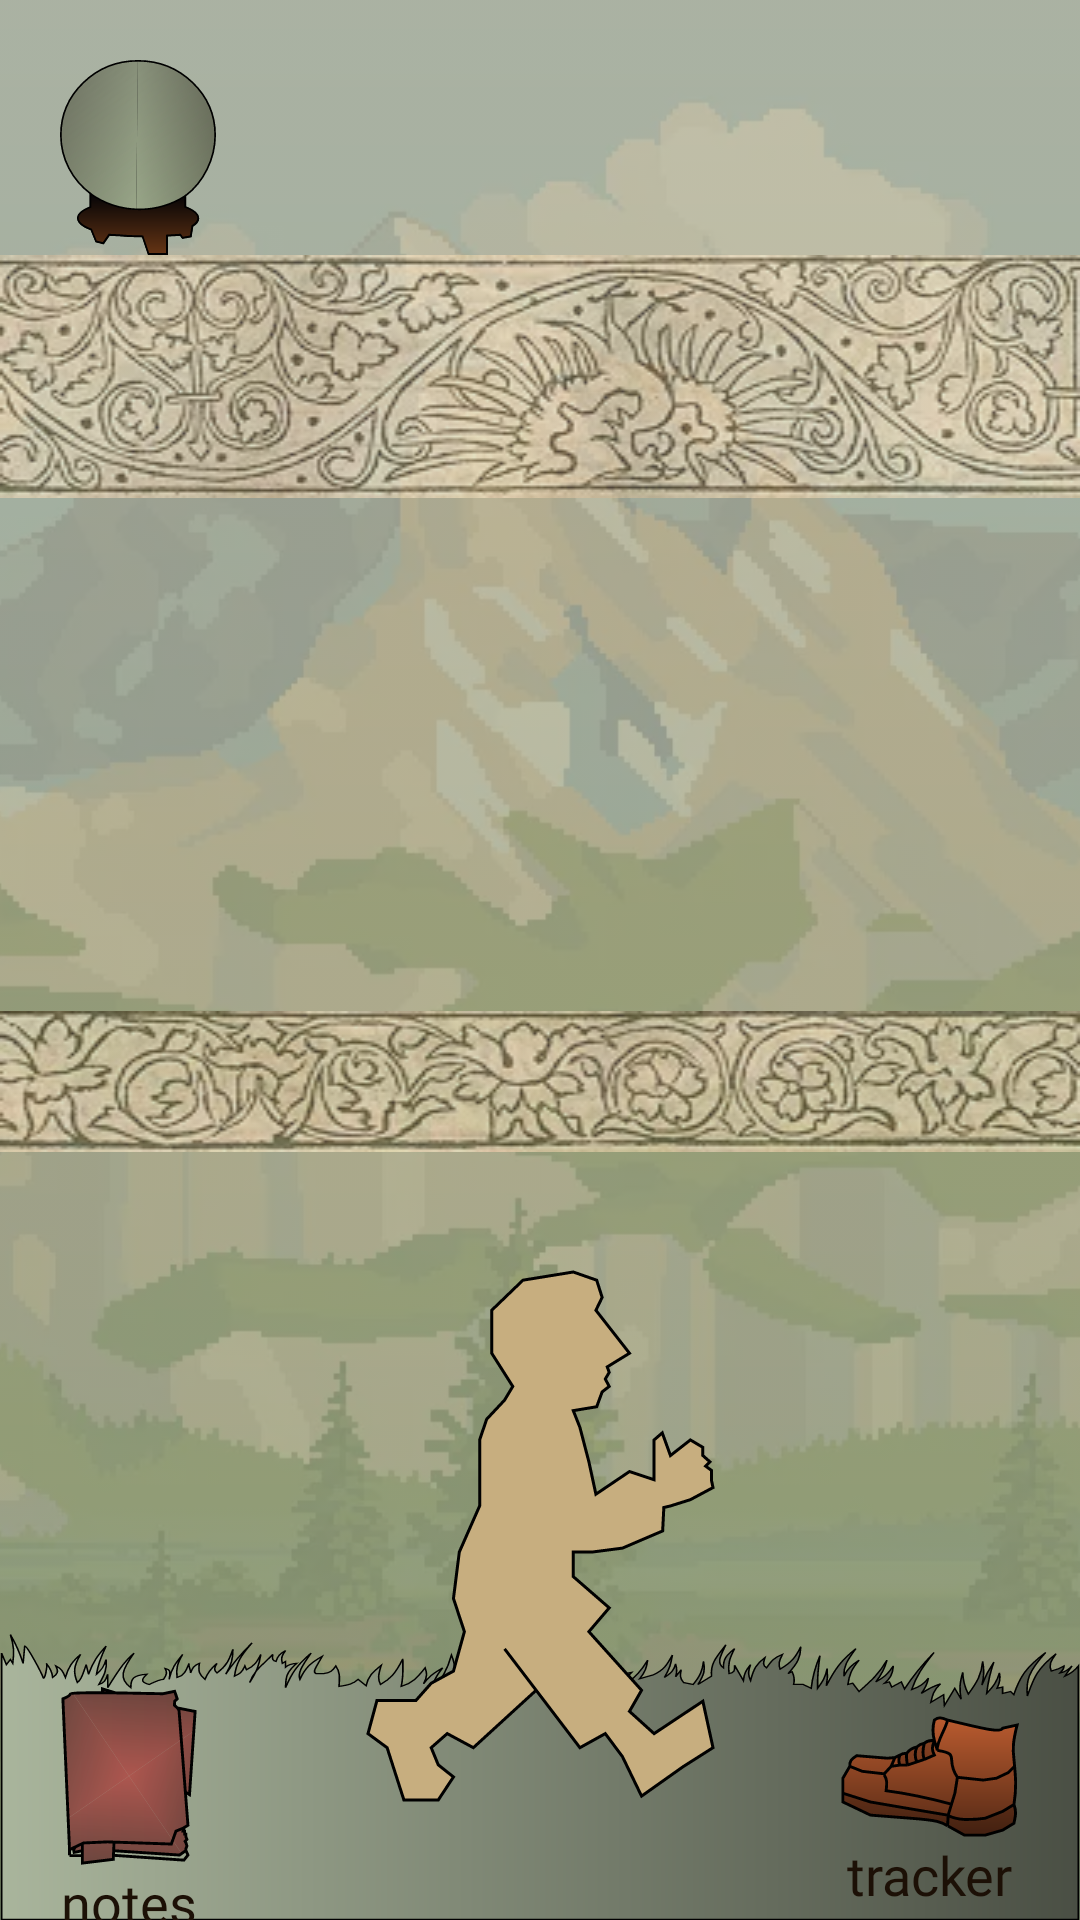

Named icons in this screenshot (1080 × 1920) and their bounding boxes, (x1, y1, x2, y2):
palanir: (60, 60, 216, 255)
